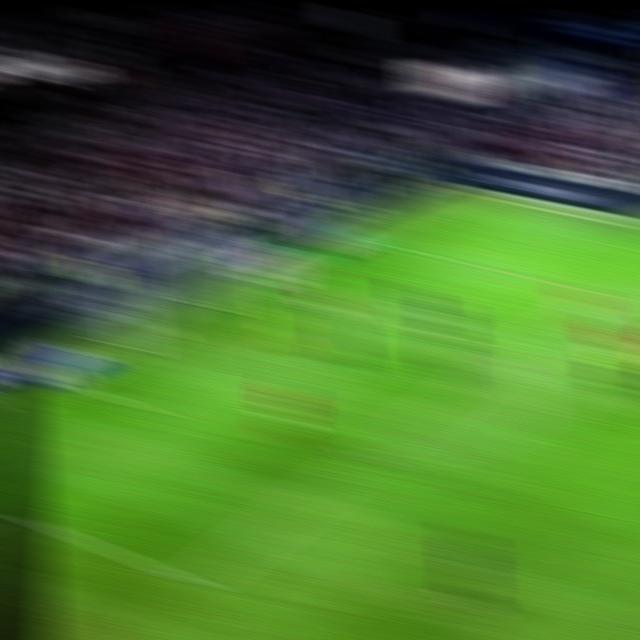bigarea_bottom_inner: (170, 560, 220, 600)
bigarea_top_inner: (584, 278, 627, 308)
bigarea_top_outter: (348, 226, 388, 250)
bottom_arc_area_intersection: (343, 440, 391, 476)
corner: (442, 182, 487, 203)
smallarea_bottom_inner: (128, 390, 174, 424)
smallarea_bottom_outter: (43, 369, 84, 392)
smallarea_top_inner: (327, 291, 367, 317)
smallarea_top_outter: (249, 270, 296, 298)
top_arc_area_intersection: (486, 345, 531, 375)
